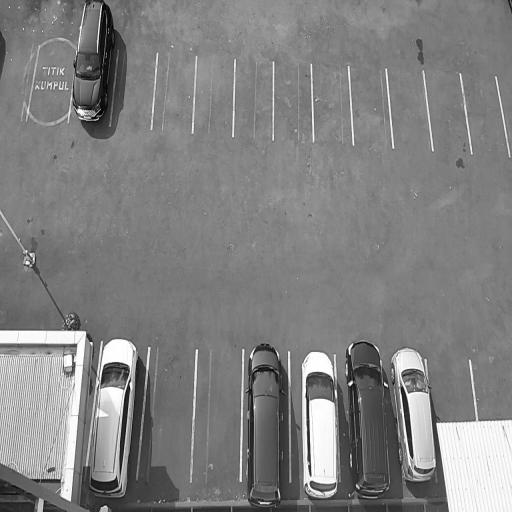Car: (82, 337, 141, 502), (297, 336, 343, 512), (347, 324, 390, 500), (244, 335, 286, 512), (392, 342, 441, 492), (69, 0, 117, 132)
Space Available: (133, 347, 196, 485), (191, 349, 243, 489), (27, 23, 78, 125), (113, 24, 158, 132), (459, 77, 509, 153), (423, 73, 471, 151), (151, 54, 196, 134), (387, 70, 432, 148), (0, 23, 37, 117), (351, 68, 393, 147), (272, 61, 314, 137), (426, 358, 477, 419), (314, 65, 351, 144), (235, 61, 271, 142), (197, 59, 234, 132)
